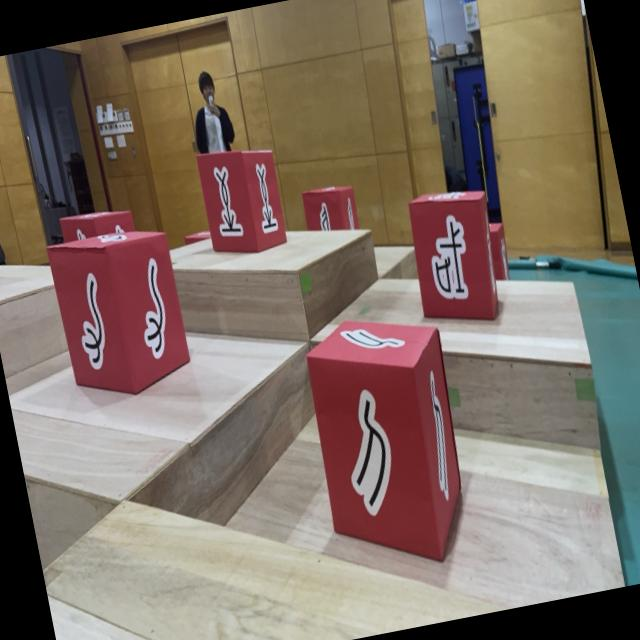10: (334, 386, 404, 520), (418, 370, 460, 502), (340, 318, 406, 358)
11: (316, 200, 332, 233), (345, 196, 356, 232)
13: (129, 255, 176, 363), (70, 272, 115, 374)
5: (421, 212, 478, 306)
7: (208, 162, 245, 241), (250, 162, 280, 236)
fighter: (295, 303, 483, 582), (45, 221, 196, 406), (402, 181, 511, 334), (194, 138, 291, 261), (299, 180, 362, 240), (60, 202, 136, 244), (484, 216, 515, 284), (184, 228, 211, 244)
